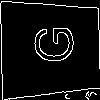G: (24, 24, 74, 64)
